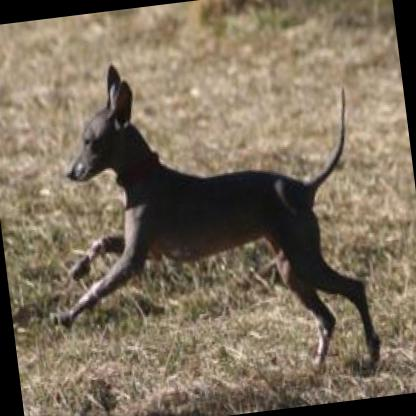Mexican_hairless: (24, 36, 382, 402)
